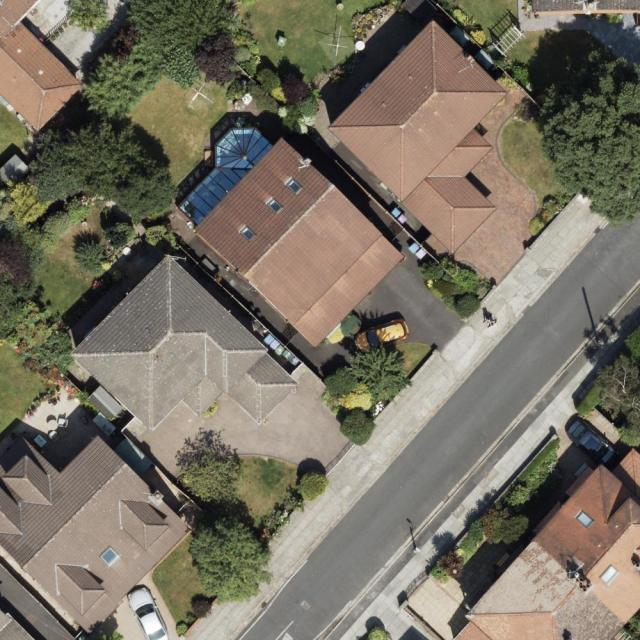roof: (176, 129, 406, 347), (331, 17, 511, 257), (71, 254, 303, 430), (0, 433, 193, 640), (446, 447, 640, 640), (0, 0, 90, 137)
skylight: (178, 128, 276, 227), (596, 561, 622, 589), (280, 171, 307, 196), (259, 191, 286, 215), (100, 542, 123, 569), (236, 221, 260, 246), (573, 508, 594, 533)
